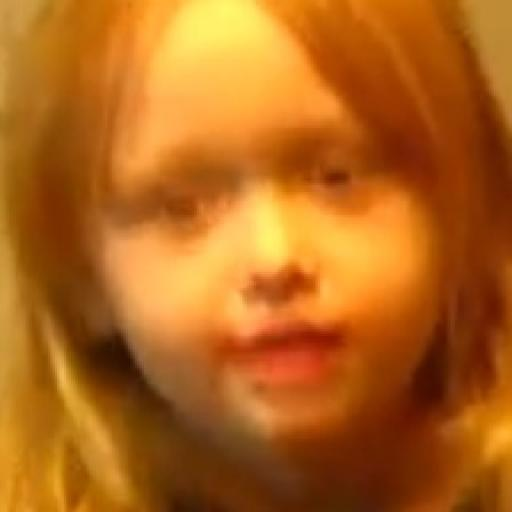Autism: (65, 1, 452, 464)
